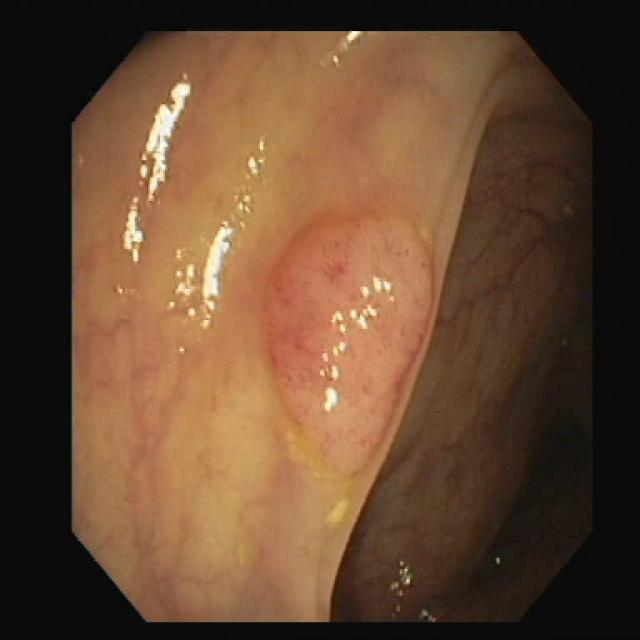tumor: (272, 213, 425, 456)
